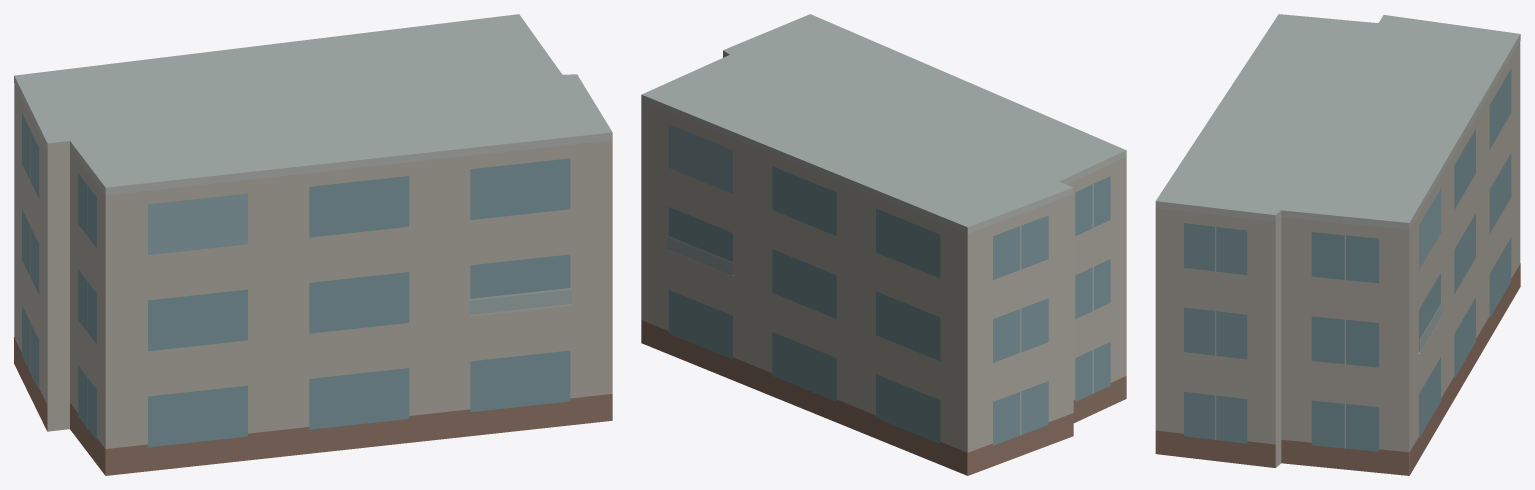
File: survey-upis-32797629.glb
3 renders of one model, left to right at view 1: azimuth 30°, elevation 25°; view 2: azimuth 150°, elevation 25°; view 3: azimuth 270°, elevation 25°, orthographic. The views are drawn at different scales.
Parts seen in each view (by area): view 1: survey-upis-32797629.tmp; view 2: survey-upis-32797629.tmp; view 3: survey-upis-32797629.tmp.
Part boxes in pixels (box(x1,y1,x2,y2)): survey-upis-32797629.tmp: box(14, 14, 612, 475); survey-upis-32797629.tmp: box(641, 14, 1126, 475); survey-upis-32797629.tmp: box(1155, 14, 1520, 475).
Bounding box in the file's own units: 16.23 × 9.15 × 11.98.
